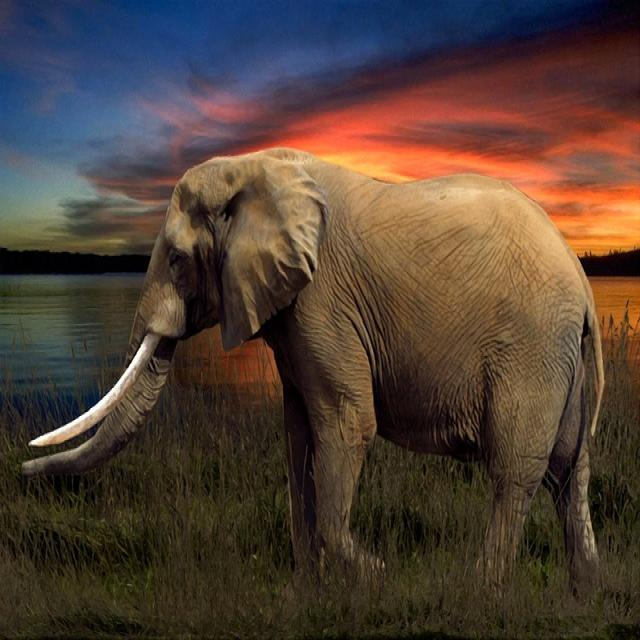elephant: (22, 148, 604, 590)
